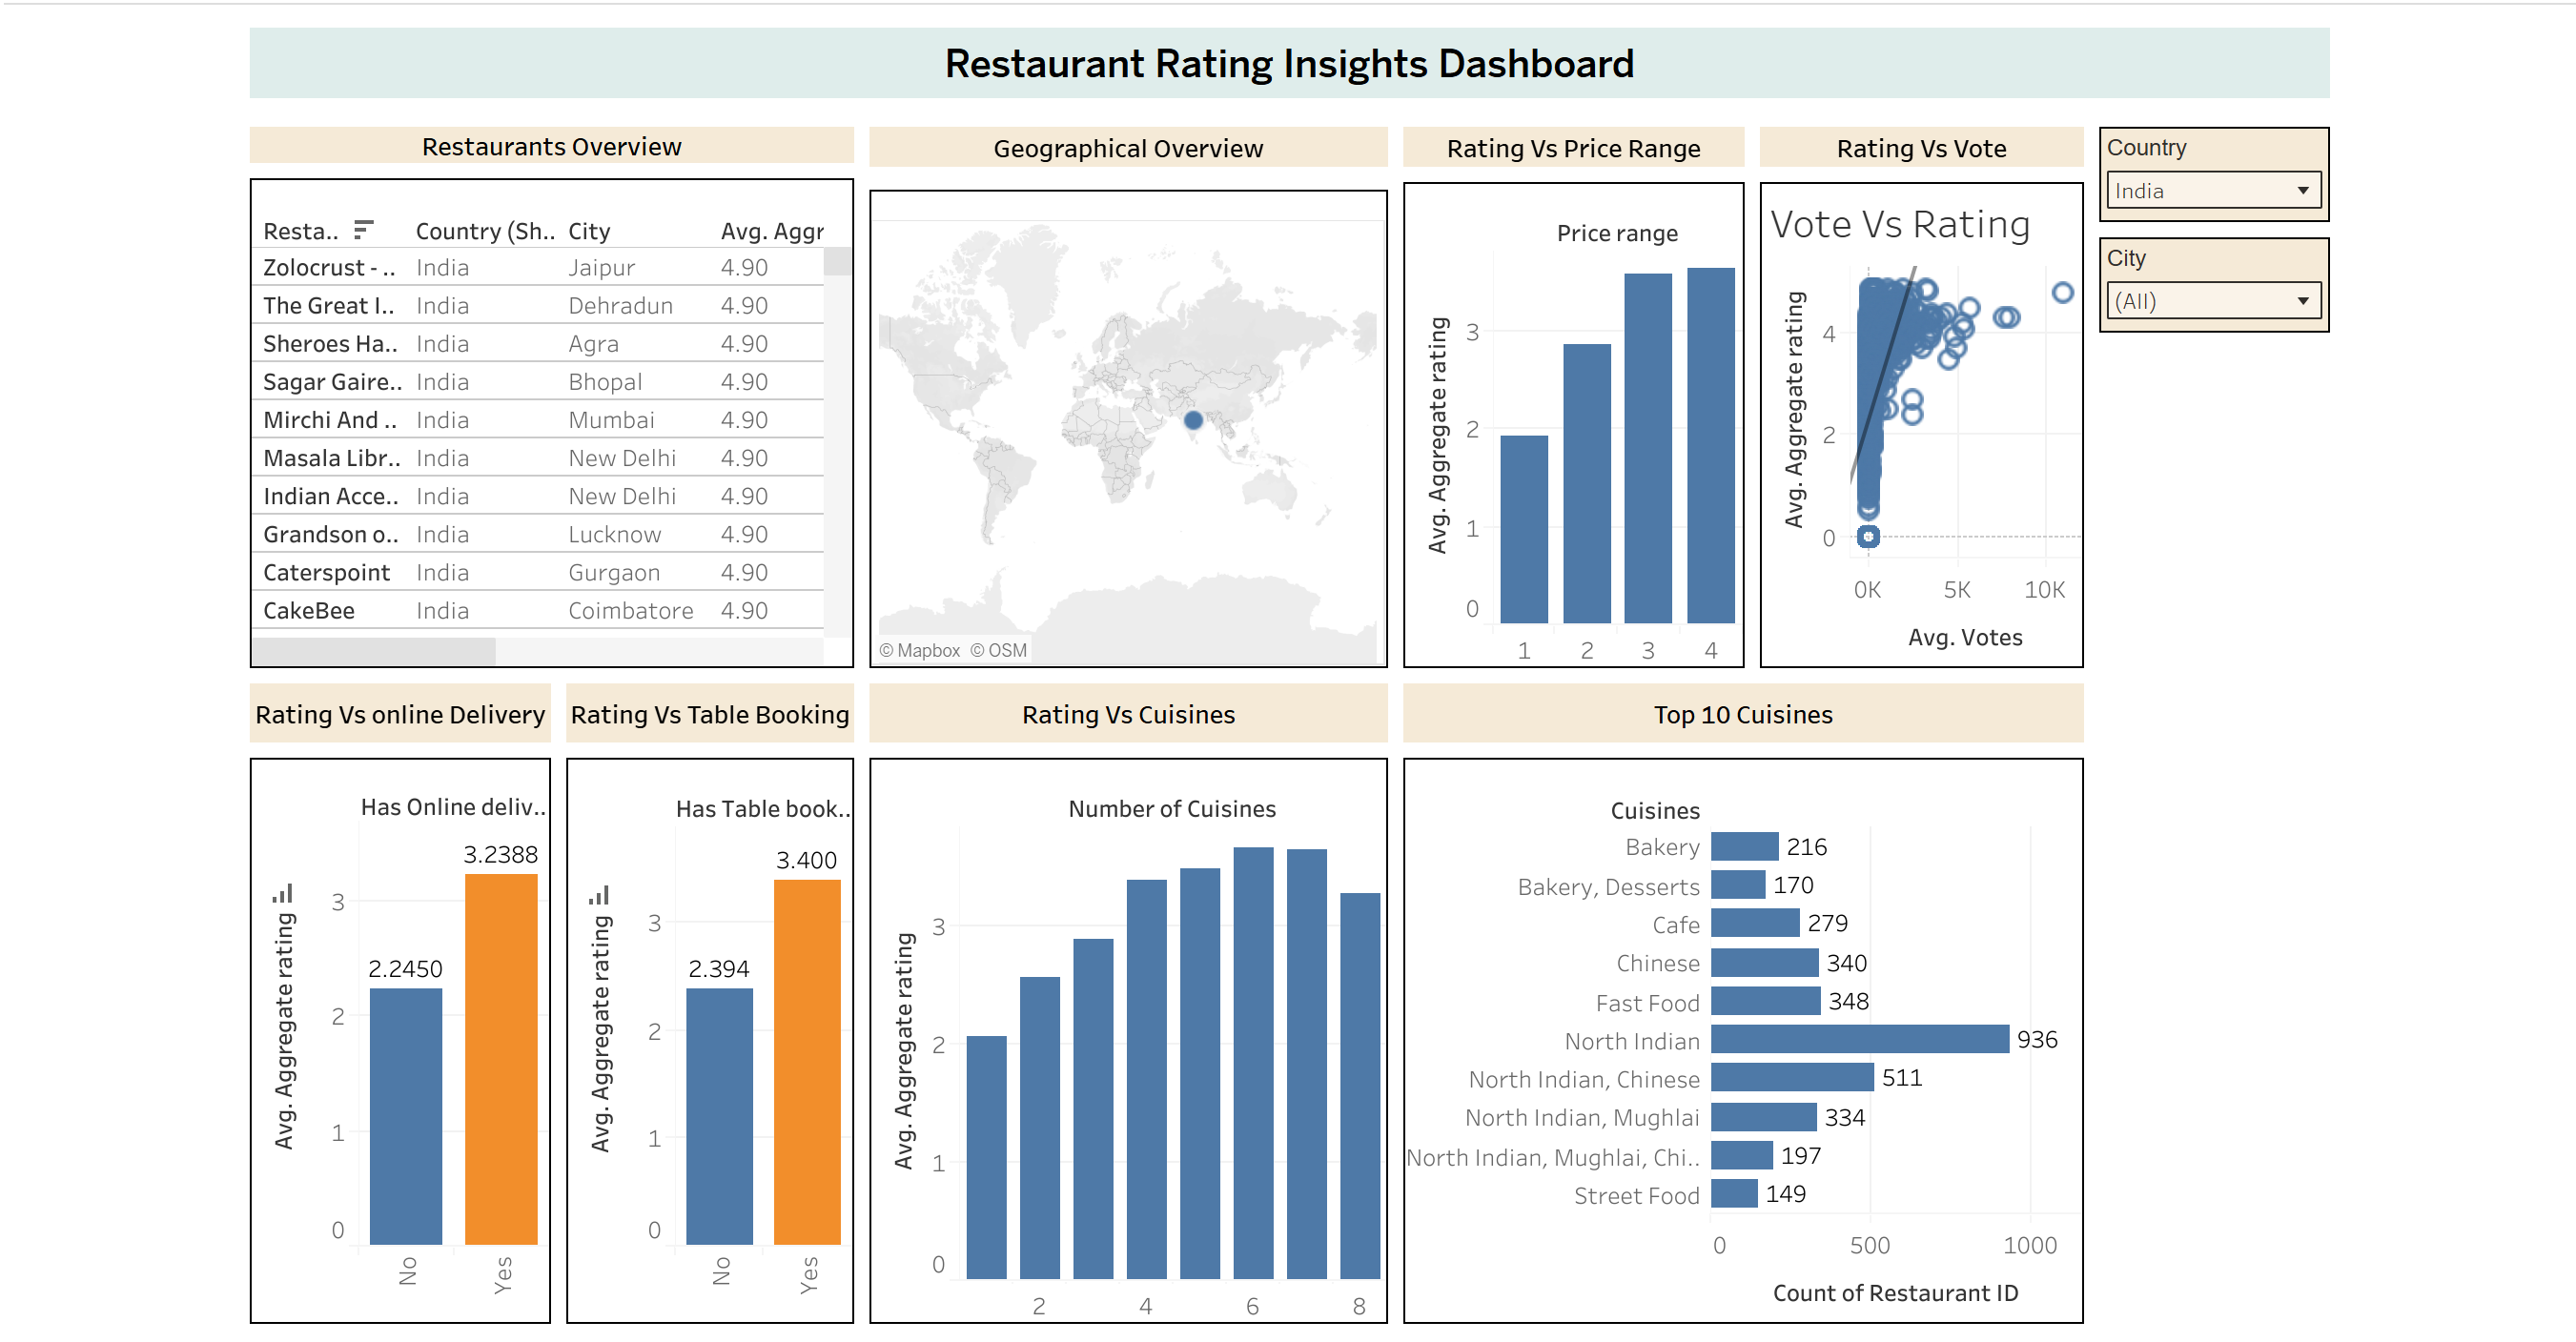

The page's visual inventory and layout, read from the dashboard file:
{"tool":"tableau","page":{"name":"Dashboard 1","canvas":[1000,1000],"units":"permille","ordinal":0},"visuals":[{"type":"text","box":[6.2,10.3,987.6,64.4]},{"type":"text","box":[6.2,84.9,291.7,33.5]},{"type":"text","box":[297.9,84.9,252.1,41.4]},{"type":"text","box":[550,84.9,167.6,41.4]},{"type":"text","box":[717.6,84.9,160.5,41.4]},{"type":"filter","title":"Cuisines Vs Rating","param":"[federated.0f5bid50088qig1fcqxlf0b598n6].[none:Country:nk]","box":[878.1,84.9,115.7,69.6]},{"type":"worksheet","title":"Data OVerview","mark":"Automatic","rows":["Restaurant Name","Country (Sheet11)","City","Aggregate rating","Votes","Price range","Has Online delivery","Has Table booking"],"box":[6.2,118.5,291.7,381.6]},{"type":"worksheet","title":"Rating Vs Price Range","mark":"Automatic","rows":["Aggregate rating"],"cols":["Price range"],"box":[550,126.3,167.6,373.7]},{"type":"worksheet","title":"Vote Vs Rating","mark":"Automatic","rows":["Aggregate rating"],"cols":["Votes"],"box":[717.6,126.3,160.5,373.7]},{"type":"worksheet","title":"Geographical Destribution","mark":"Circle","box":[297.9,131.4,252.1,368.6]},{"type":"filter","title":"Vote Vs Rating","param":"[federated.0f5bid50088qig1fcqxlf0b598n6].[none:City:nk]","box":[878.1,154.5,115.7,69.6]},{"type":"text","box":[6.2,500,149,55.4]},{"type":"text","box":[155.2,500,142.8,55.4]},{"type":"text","box":[297.9,500,252.1,55.4]},{"type":"text","box":[550,500,328.1,55.4]},{"type":"worksheet","title":"Delivery Vs Rating","mark":"Automatic","rows":["Aggregate rating"],"cols":["Has Online delivery"],"box":[6.2,555.4,149,434.3]},{"type":"worksheet","title":"Table Booking Vs Rating","mark":"Bar","rows":["Aggregate rating"],"cols":["Has Table booking"],"box":[155.2,555.4,143.5,434.3]},{"type":"worksheet","title":"Cuisines Vs Rating","mark":"Automatic","rows":["Aggregate rating"],"cols":["Calculation_961518570786480130"],"box":[298.7,555.4,251.4,434.3]},{"type":"worksheet","title":"Top 10 Cuisines","mark":"Bar","rows":["Cuisines"],"cols":["Restaurant ID"],"box":[550,555.4,328.1,434.3]}]}

Visuals, with their boxes on the dashboard's canvas, which has no fixed pixel size, in thousandths of its width and height (x1, y1, x2, y2). These are canvas units, not pixel positions in the 2576x1342 screenshot, which may show the page scaled, cropped or inside an application window:
text: [x1=6, y1=10, x2=994, y2=75]
text: [x1=6, y1=85, x2=298, y2=118]
text: [x1=298, y1=85, x2=550, y2=126]
text: [x1=550, y1=85, x2=718, y2=126]
text: [x1=718, y1=85, x2=878, y2=126]
"Cuisines Vs Rating" filter: [x1=878, y1=85, x2=994, y2=154]
"Data OVerview" worksheet: [x1=6, y1=118, x2=298, y2=500]
"Rating Vs Price Range" worksheet: [x1=550, y1=126, x2=718, y2=500]
"Vote Vs Rating" worksheet: [x1=718, y1=126, x2=878, y2=500]
"Geographical Destribution" worksheet (Circle marks): [x1=298, y1=131, x2=550, y2=500]
"Vote Vs Rating" filter: [x1=878, y1=154, x2=994, y2=224]
text: [x1=6, y1=500, x2=155, y2=555]
text: [x1=155, y1=500, x2=298, y2=555]
text: [x1=298, y1=500, x2=550, y2=555]
text: [x1=550, y1=500, x2=878, y2=555]
"Delivery Vs Rating" worksheet: [x1=6, y1=555, x2=155, y2=990]
"Table Booking Vs Rating" worksheet (Bar marks): [x1=155, y1=555, x2=299, y2=990]
"Cuisines Vs Rating" worksheet: [x1=299, y1=555, x2=550, y2=990]
"Top 10 Cuisines" worksheet (Bar marks): [x1=550, y1=555, x2=878, y2=990]
